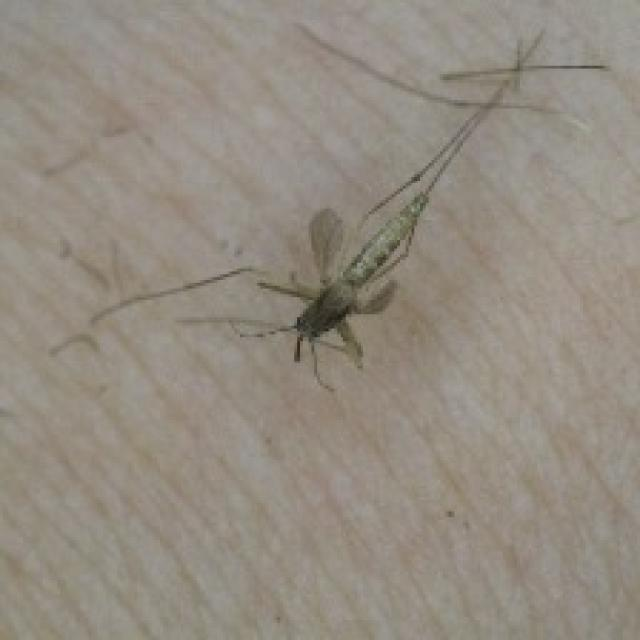culex: (54, 20, 609, 394)
